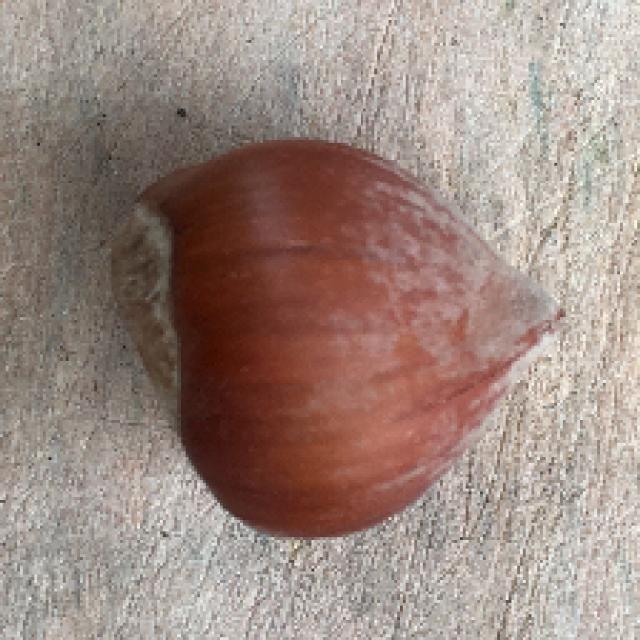qualityHazelnut: (93, 128, 562, 540)
